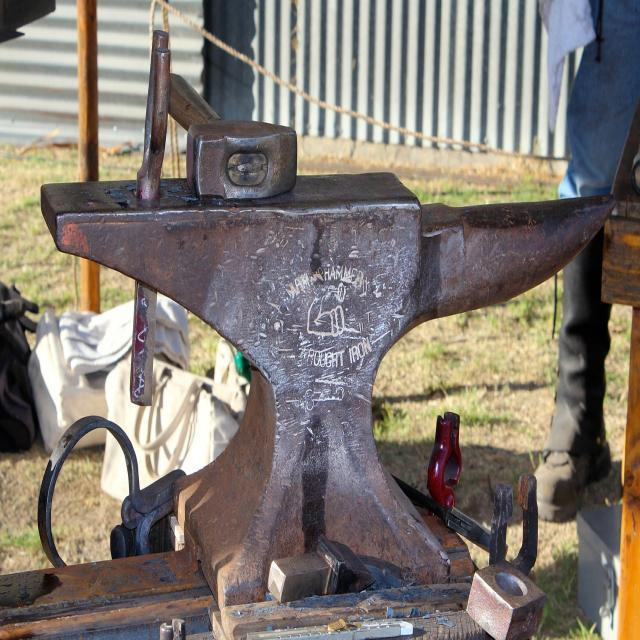hammer: (156, 65, 302, 208)
